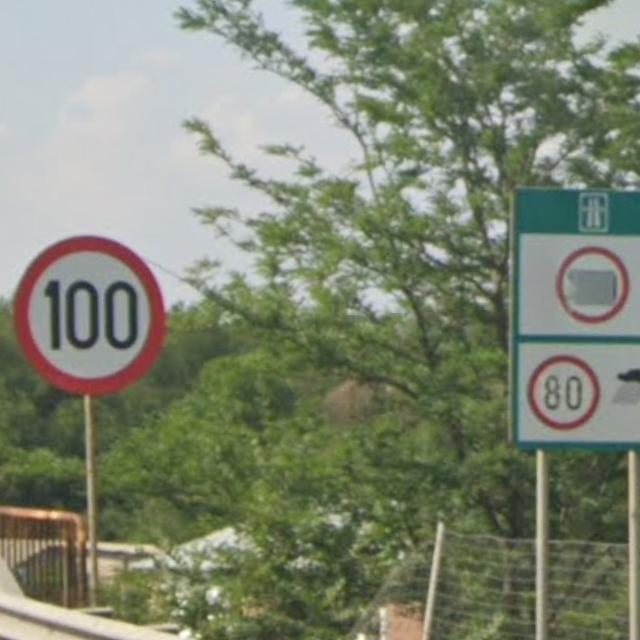forb_speed_over_100: (12, 235, 167, 395)
forb_speed_over_80: (528, 357, 601, 431)
